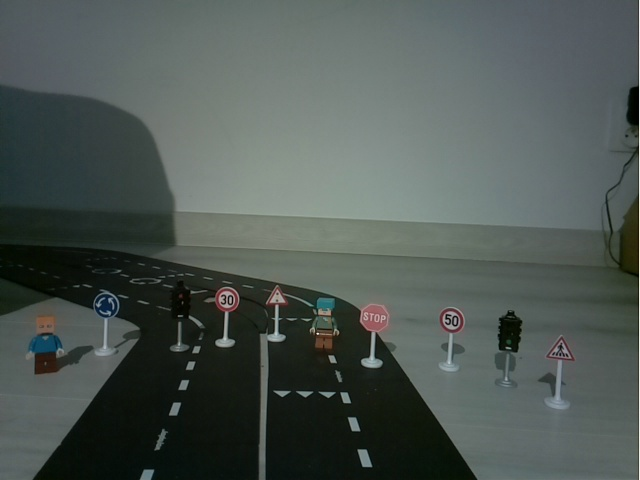green light: (490, 307, 525, 393)
limit 30: (209, 285, 242, 353)
limit 50: (433, 303, 466, 378)
pedestrian sign: (539, 331, 578, 416)
person: (22, 313, 67, 378)
red light: (165, 278, 194, 358)
round: (87, 292, 124, 360)
second person: (305, 292, 345, 357)
stop: (353, 300, 392, 373)
traffic light sign: (261, 283, 290, 348)
